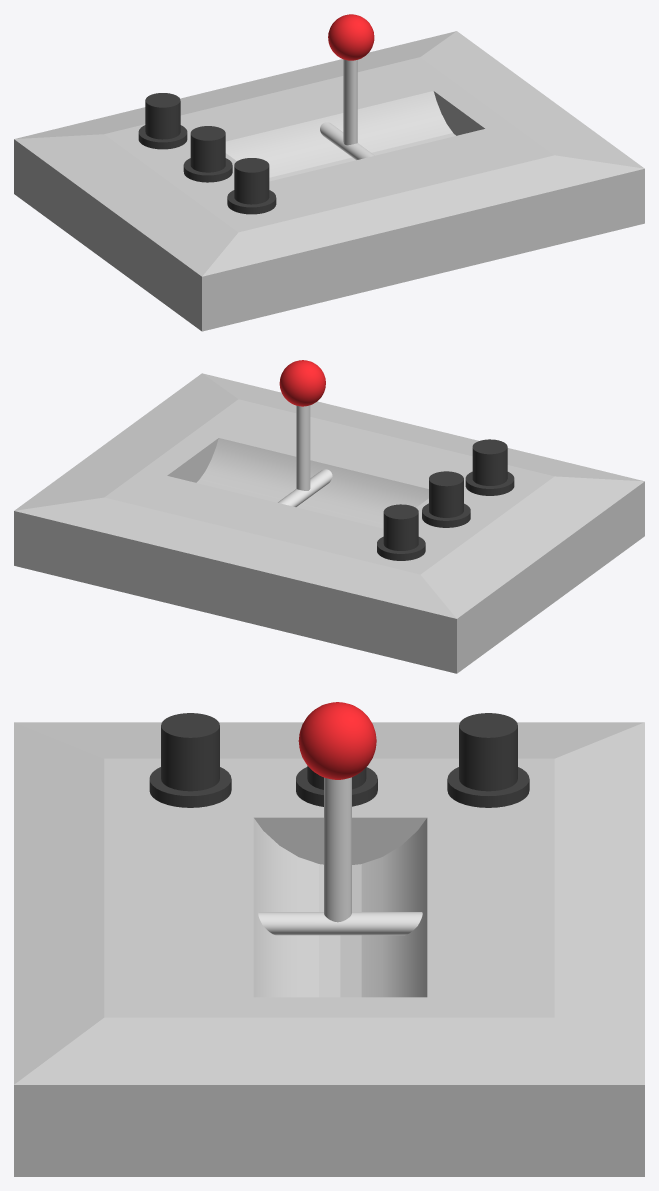
Rendered from рубильник.fbx.
The picture shows the model from 3 angles, top to bottom: view 1: azimuth 30°, elevation 25°; view 2: azimuth 150°, elevation 25°; view 3: azimuth 270°, elevation 25°; orthographic projection. The views are drawn at different scales.
Visible parts, largest first — view 1: Cube, хуйня, рубильник; view 2: Cube, хуйня, рубильник; view 3: Cube, хуйня, рубильник.
Boxes of the visible parts, x1=… form: Cube: x1=14, y1=31, x2=644, y2=331; хуйня: x1=138, y1=93, x2=276, y2=214; рубильник: x1=320, y1=14, x2=374, y2=160; Cube: x1=14, y1=373, x2=644, y2=673; хуйня: x1=377, y1=439, x2=514, y2=560; рубильник: x1=278, y1=360, x2=332, y2=506; Cube: x1=14, y1=722, x2=644, y2=1176; хуйня: x1=149, y1=713, x2=529, y2=807; рубильник: x1=258, y1=702, x2=422, y2=935.
Bounding box in the file's own units: 200 × 79.64 × 147.
